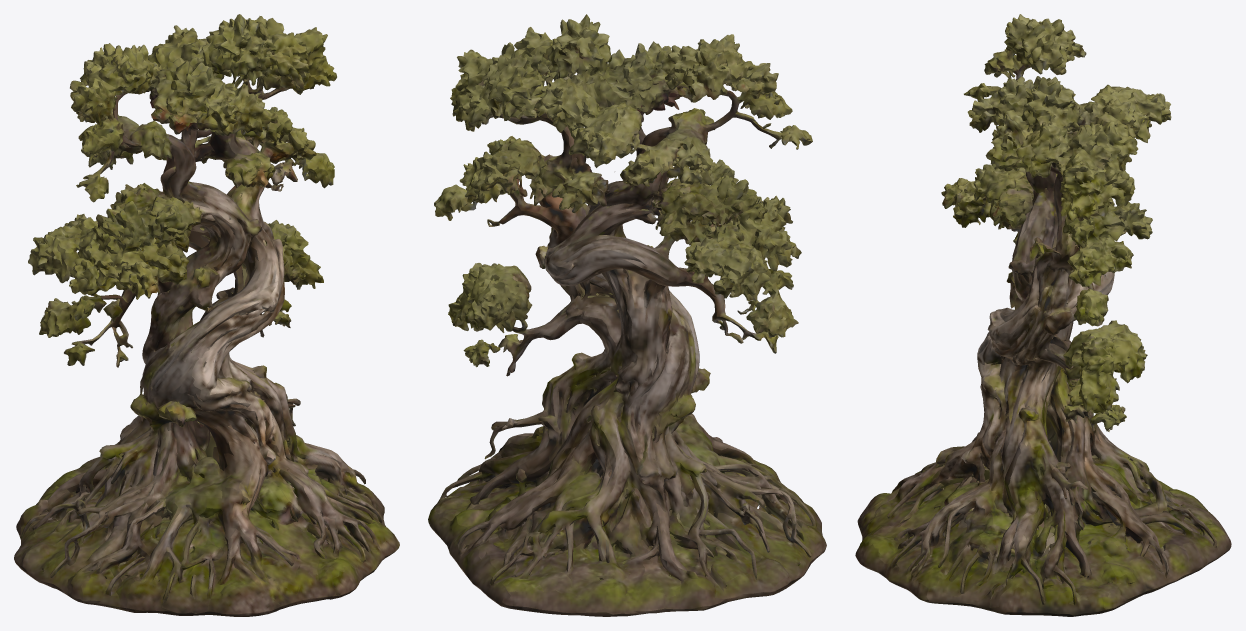
The model's file is TwistedTree_01.fbx.
The picture shows the model from 3 angles, left to right: view 1: azimuth 30°, elevation 25°; view 2: azimuth 150°, elevation 25°; view 3: azimuth 270°, elevation 25°; orthographic projection. The views are drawn at different scales.
Parts seen in each view (by area): view 1: geometry_0; view 2: geometry_0; view 3: geometry_0.
Boxes of the visible parts, x1,y1,x2,y2 form: geometry_0: (14,14,399,616); geometry_0: (428,14,826,616); geometry_0: (855,14,1231,616).
Size of the model in its own units: 43.23 by 62 by 43.74.
